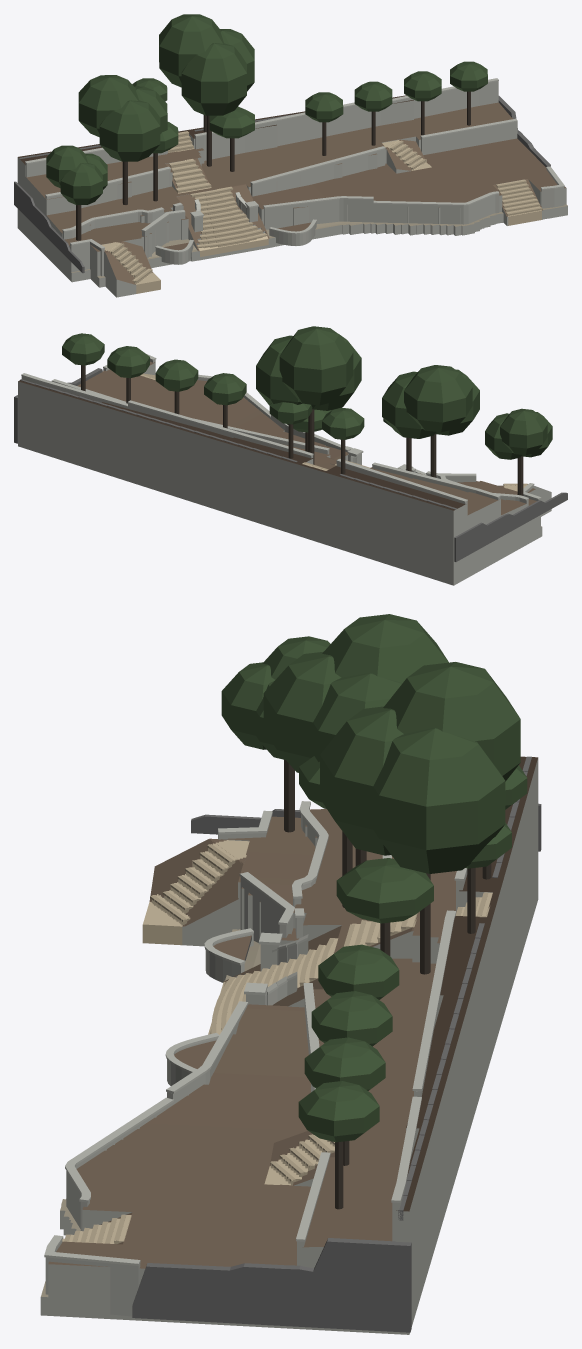
File: reconstruction-07cd958c37b8.glb
3 views of the same model, one above another, from view 1: azimuth 30°, elevation 25°; view 2: azimuth 150°, elevation 25°; view 3: azimuth 270°, elevation 25° (orthographic). The views are drawn at different scales.
Visible parts, largest first — view 1: ground-terraces, planting-tree-03, wall-wa, planting-tree-01, wall-we, wall-wb, flight-m1, planting-tree-07, flight-w1, nosing-m1, coping-wa, slot-filler-west (+20 smaller); view 2: ground-terraces, planting-tree-03, planting-tree-01, planting-tree-07, slot-filler-west, planting-tree-06, coping-we, planting-tree-09, planting-tree-11, planting-tree-10, planting-tree-08, wall-we (+12 smaller); view 3: ground-terraces, planting-tree-03, slot-filler-east, planting-tree-01, flight-w1, wall-wa, planting-tree-07, planting-tree-04, coping-wa, planting-tree-11, planting-tree-10, planting-tree-08 (+15 smaller).
Boxes of the visible parts, box(x1,y1,x2,y2) form: ground-terraces: box(17, 95, 567, 287); planting-tree-03: box(159, 14, 254, 166); wall-wa: box(70, 169, 564, 276); planting-tree-01: box(78, 75, 167, 204); wall-we: box(194, 81, 498, 160); wall-wb: box(62, 121, 517, 239); flight-m1: box(176, 184, 269, 257); planting-tree-07: box(46, 145, 107, 240); flight-w1: box(102, 241, 160, 297); nosing-m1: box(191, 187, 267, 247); coping-wa: box(70, 166, 564, 249); slot-filler-west: box(14, 181, 84, 273); ground-terraces: box(18, 361, 542, 585); planting-tree-03: box(256, 326, 361, 464); planting-tree-01: box(382, 365, 479, 477); planting-tree-07: box(485, 408, 552, 495); slot-filler-west: box(454, 492, 567, 561); planting-tree-06: box(322, 407, 364, 474); coping-we: box(21, 373, 313, 456); planting-tree-09: box(155, 359, 198, 414); planting-tree-11: box(62, 333, 104, 391); planting-tree-10: box(107, 346, 149, 403); planting-tree-08: box(204, 373, 246, 428); wall-we: box(21, 376, 313, 458); ground-terraces: box(40, 756, 538, 1334); planting-tree-03: box(320, 662, 520, 974); slot-filler-east: box(132, 1238, 411, 1332); planting-tree-01: box(263, 614, 448, 865); flight-w1: box(142, 838, 249, 946); wall-wa: box(45, 832, 293, 1316); planting-tree-07: box(221, 636, 330, 832); planting-tree-04: box(336, 858, 433, 955); coping-wa: box(44, 810, 294, 1265); planting-tree-11: box(298, 1081, 379, 1209); planting-tree-10: box(304, 1037, 385, 1165); planting-tree-08: box(318, 944, 399, 999).
Bounding box in the file's own units: 32.12 × 12.26 × 14.57.
